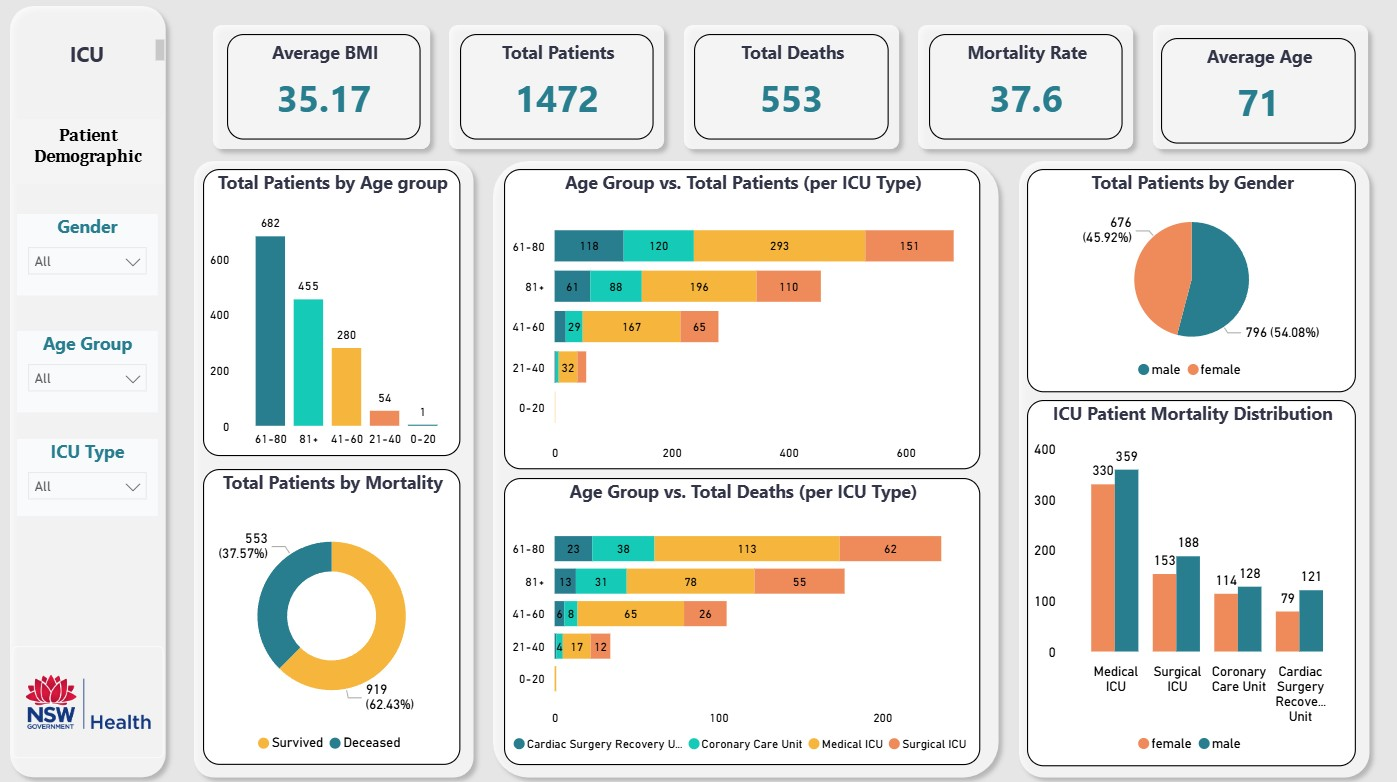

The page's visual inventory and layout, read from the dashboard file:
{"tool":"powerbi","page":{"name":"Patients","canvas":[1280,720],"ordinal":0},"visuals":[{"type":"shape","box":[0,0,159.6,719.2],"z":0},{"type":"shape","box":[1039.1,17.3,213.6,130.9],"z":1000},{"type":"shape","box":[399.1,17.3,213.6,130.9],"z":2000},{"type":"shape","box":[612.7,17.3,213.6,130.9],"z":3000},{"type":"shape","box":[825.5,17.3,213.6,130.9],"z":4000},{"type":"shape","box":[184.5,17.3,215.5,130.9],"z":5000},{"type":"shape","box":[917.2,141.1,336.6,578.5],"z":6000},{"type":"textbox","box":[5.3,34.6,149,40.8],"z":7000},{"type":"textbox","box":[10.6,111.7,138.3,58.5],"z":8000},{"type":"clusteredColumnChart","title":"ICU Patient Mortality Distribution","fields":{"Category":["ICU data.ICUType"],"Y":["CountNonNull(ICU data.RecordID)"],"Series":["ICU data.Gender"]},"box":[933.3,366.9,299.3,332.6],"z":10000},{"type":"card","title":"Total Patients","fields":{"Values":["ICU data.Total patients"]},"box":[418.2,34.5,176.4,96.4],"z":11000},{"type":"card","title":"Total Deaths","fields":{"Values":["ICU data.Total Deaths"]},"box":[630.9,34.5,177.3,96.4],"z":12000},{"type":"card","title":"Mortality Rate","fields":{"Values":["ICU data.Mortality Rate (%)"]},"box":[844.5,34.5,176.4,96.4],"z":13000},{"type":"shape","box":[439.4,141.1,477.7,578.5],"z":14000},{"type":"barChart","title":"Age Group vs. Total Patients (per ICU Type)","fields":{"Category":["ICU data.Age Group"],"Y":["ICU data.Total patients"],"Series":["ICU data.ICUType"]},"box":[458.6,157.2,433.4,273.1],"z":15000},{"type":"barChart","title":"Age Group vs. Total Deaths (per ICU Type)","fields":{"Category":["ICU data.Age Group"],"Y":["ICU data.Total Deaths"],"Series":["ICU data.ICUType"]},"box":[458.6,438.4,433.4,261],"z":16000},{"type":"shape","box":[167.3,141.1,272.1,578.5],"z":17000},{"type":"columnChart","title":"Total Patients by Age group","fields":{"Category":["ICU data.Age Group"],"Y":["CountNonNull(ICU data.RecordID)"]},"box":[184.4,157.2,233.8,261],"z":18000},{"type":"slicer","title":"Age Group","fields":{"Values":["ICU data.Age Group"]},"box":[15.1,304.4,128,73.6],"z":19000},{"type":"donutChart","title":"Total Patients by Mortality","fields":{"Category":["ICU data.Mortality"],"Y":["CountNonNull(ICU data.RecordID)"]},"box":[184.4,430.4,233.8,269.1],"z":20000},{"type":"slicer","title":"Gender","fields":{"Values":["ICU data.Gender"]},"box":[15.1,198.6,128,73.6],"z":21000},{"type":"slicer","title":"ICU Type","fields":{"Values":["ICU data.ICUType"]},"box":[15.1,403.1,128,69.5],"z":22000},{"type":"pieChart","title":"Total Patients by Gender","fields":{"Y":["CountNonNull(ICU data.RecordID)"],"Category":["ICU data.Gender"]},"box":[933.3,157.2,299.3,202.6],"z":23000},{"type":"card","title":"Average Age","fields":{"Values":["ICU data.Avgerage Age"]},"box":[1055.5,38.2,177.3,96.4],"z":24000},{"type":"image","box":[10.9,590.9,138.2,101.8],"z":25000},{"type":"card","title":"Average BMI","fields":{"Values":["Avg(ICU data.BMI)"]},"box":[206.4,34.5,176.4,96.4],"z":26000}]}

Visuals, with their boxes in screenshot pixels (x1, y1, x2, y2), scaled from the page's 1280x720 canvas onto the 1397x782 screenshot:
shape: box(0, 0, 174, 781)
shape: box(1134, 19, 1367, 161)
shape: box(436, 19, 669, 161)
shape: box(669, 19, 902, 161)
shape: box(901, 19, 1134, 161)
shape: box(201, 19, 437, 161)
shape: box(1001, 153, 1368, 781)
textbox: box(6, 38, 168, 82)
textbox: box(12, 121, 163, 185)
"ICU Patient Mortality Distribution" clusteredColumnChart: box(1019, 398, 1345, 760)
"Total Patients" card: box(456, 37, 649, 142)
"Total Deaths" card: box(689, 37, 882, 142)
"Mortality Rate" card: box(922, 37, 1114, 142)
shape: box(480, 153, 1001, 781)
"Age Group vs. Total Patients (per ICU Type)" barChart: box(501, 171, 974, 467)
"Age Group vs. Total Deaths (per ICU Type)" barChart: box(501, 476, 974, 760)
shape: box(183, 153, 480, 781)
"Total Patients by Age group" columnChart: box(201, 171, 456, 454)
"Age Group" slicer: box(16, 331, 156, 411)
"Total Patients by Mortality" donutChart: box(201, 467, 456, 760)
"Gender" slicer: box(16, 216, 156, 296)
"ICU Type" slicer: box(16, 438, 156, 513)
"Total Patients by Gender" pieChart: box(1019, 171, 1345, 391)
"Average Age" card: box(1152, 41, 1345, 146)
image: box(12, 642, 163, 752)
"Average BMI" card: box(225, 37, 418, 142)
